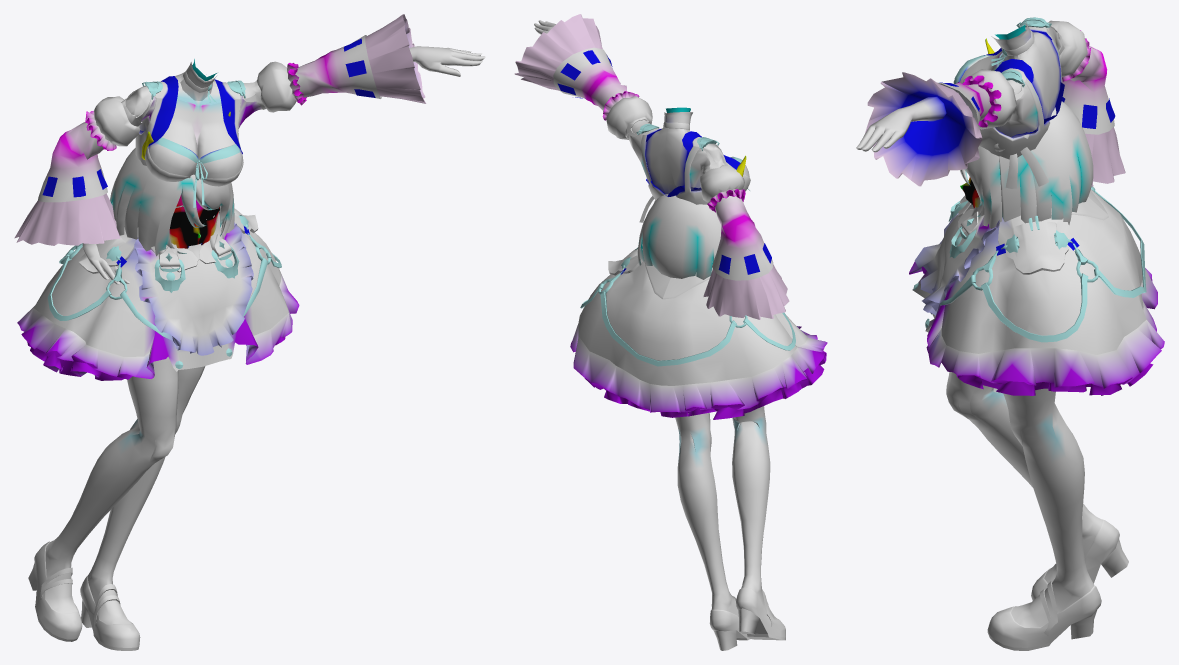
File: other_v1.glb
3 renders of one model, left to right at view 1: azimuth 30°, elevation 25°; view 2: azimuth 150°, elevation 25°; view 3: azimuth 270°, elevation 25°, orthographic. The views are drawn at different scales.
Parts seen in each view (by area): view 1: other_body, other_hair, other_face; view 2: other_body, other_hair; view 3: other_body, other_hair.
Part boxes in pixels (bbox=[...]): other_body: bbox=[14, 14, 485, 650]; other_hair: bbox=[110, 111, 234, 256]; other_face: bbox=[169, 195, 219, 248]; other_body: bbox=[514, 14, 827, 650]; other_hair: bbox=[637, 155, 746, 279]; other_body: bbox=[856, 17, 1164, 650]; other_hair: bbox=[959, 38, 1093, 233].
Size of the model in its own units: 0.9387 by 1.42 by 0.5646.
